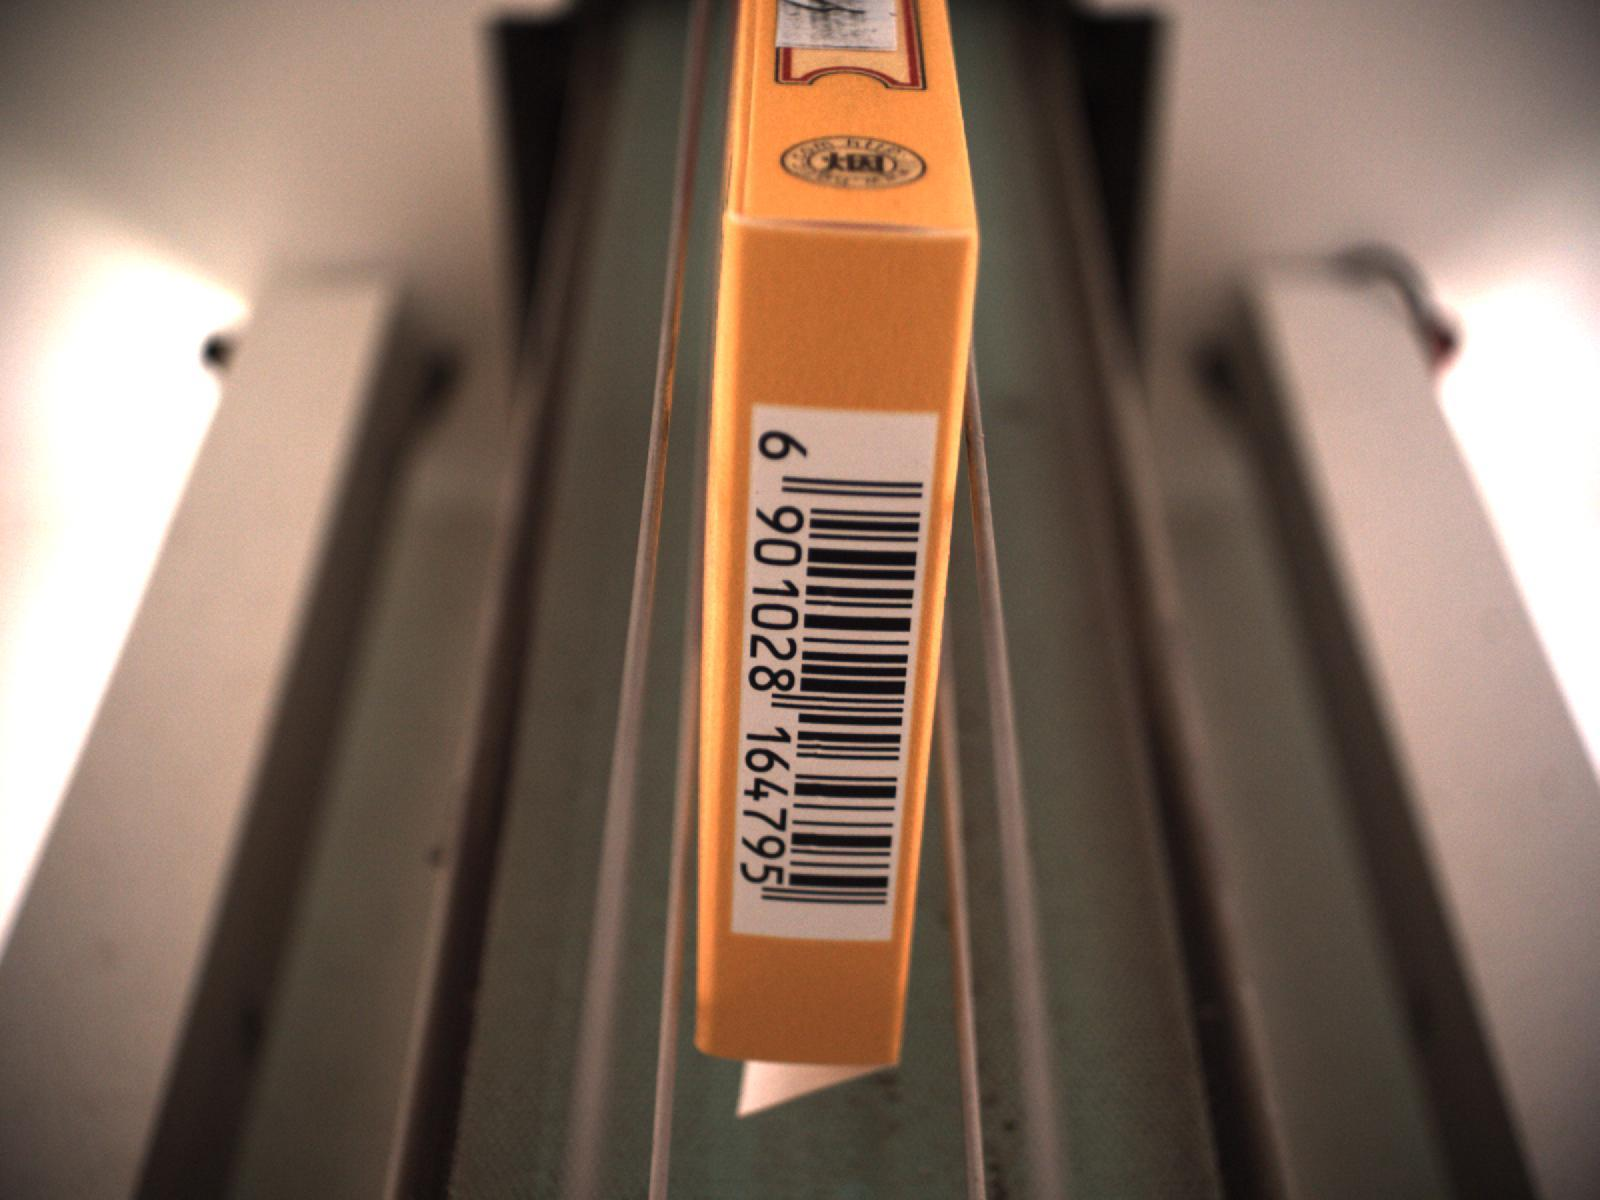skewed_bottom_3: (699, 1047, 900, 1119)
